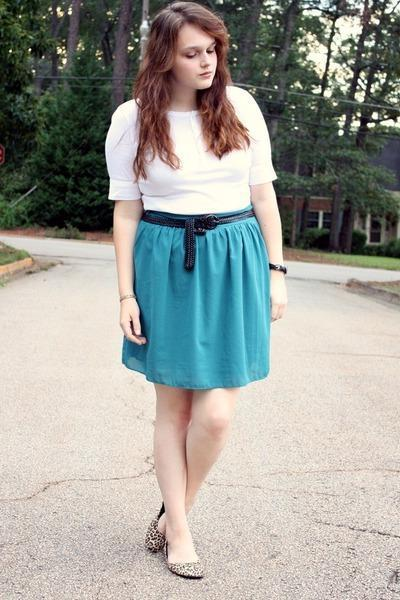short sleeve shirt: (103, 86, 277, 216)
skirt: (117, 209, 270, 390)
